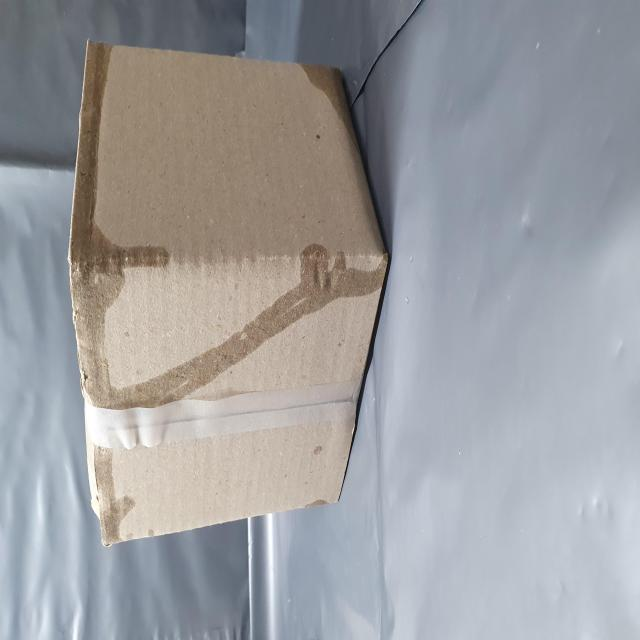wet: (137, 126, 341, 256)
